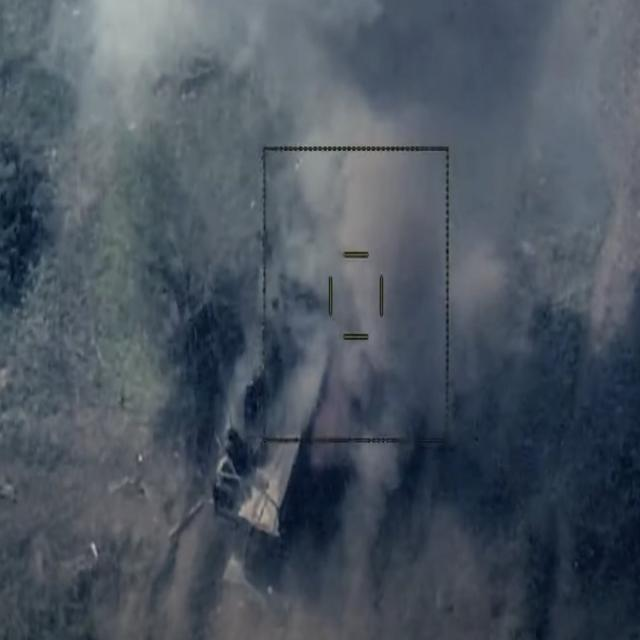destroyed: (215, 265, 338, 536)
